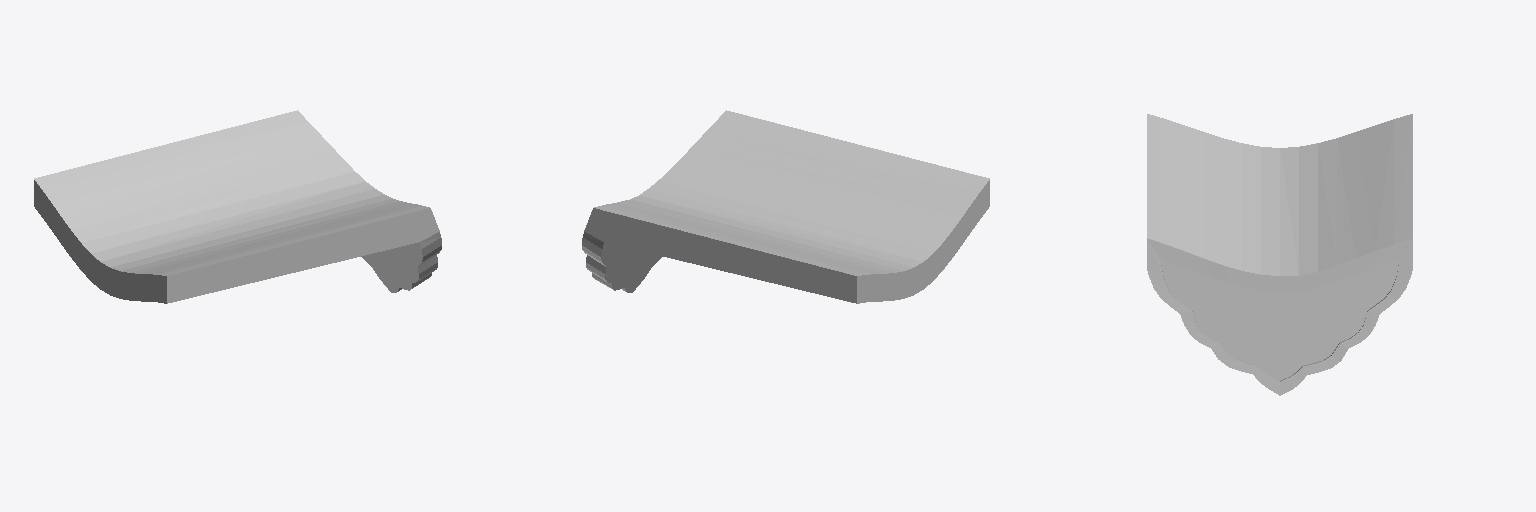
Rendered from drop_tile2.obj.
3 renders of one model, left to right at view 1: azimuth 30°, elevation 25°; view 2: azimuth 150°, elevation 25°; view 3: azimuth 270°, elevation 25°, orthographic.
Parts seen in each view (by area): view 1: mmGroup0; view 2: mmGroup0; view 3: mmGroup0.
Part boxes in pixels (x1,y1,x2,y2): mmGroup0: (34, 110, 441, 303); mmGroup0: (582, 110, 989, 303); mmGroup0: (1147, 114, 1412, 395).
Bounding box in the file's own units: 94.41 × 40.87 × 70.